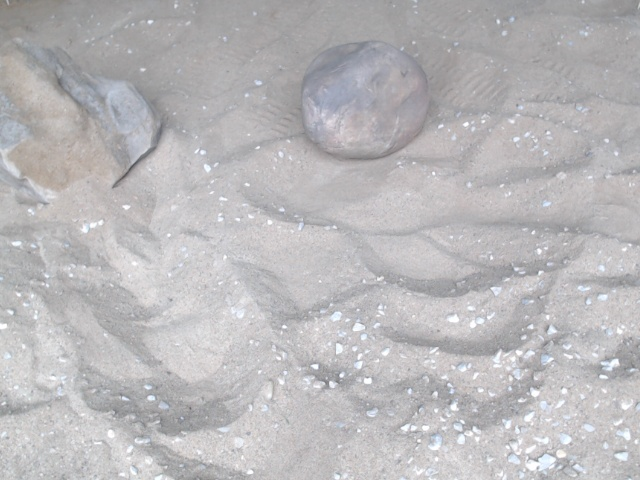rock: (1, 34, 168, 209), (297, 38, 434, 165)
